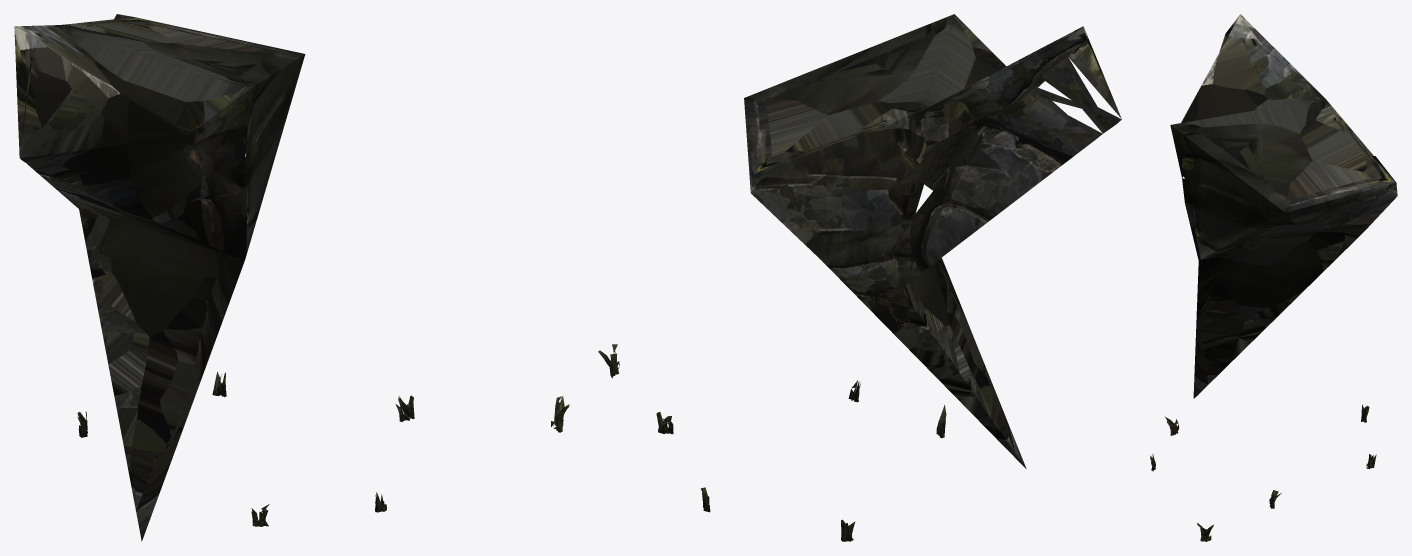
Rendered from act1_kit_v1_bridge_pier.glb.
3 views of the same model, side by side, from view 1: azimuth 30°, elevation 25°; view 2: azimuth 150°, elevation 25°; view 3: azimuth 270°, elevation 25° (orthographic). The views are drawn at different scales.
Visible parts, largest first — view 1: A06_6_bridge_pier; view 2: A06_6_bridge_pier; view 3: A06_6_bridge_pier.
Part boxes in pixels (bbox=[...]): A06_6_bridge_pier: bbox=[14, 14, 569, 541]; A06_6_bridge_pier: bbox=[598, 14, 1121, 541]; A06_6_bridge_pier: bbox=[1150, 14, 1397, 541].
Bounding box in the file's own units: 0.8113 × 0.7279 × 0.4611.
Materials: 1 (1 with a texture image).
